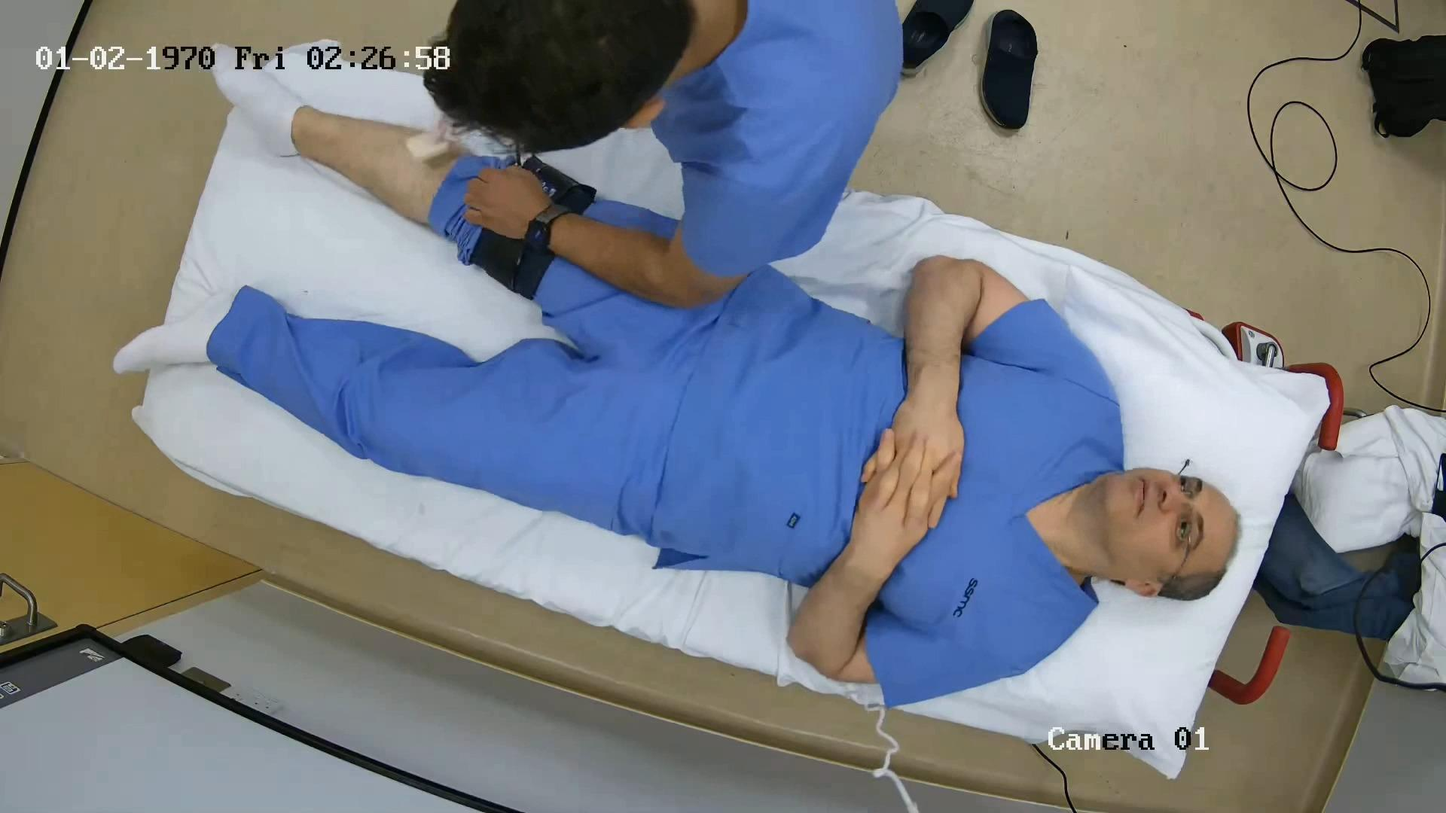bed: (133, 62, 1343, 783)
patient: (207, 108, 1239, 705)
prepstick: (407, 117, 460, 163)
tourniquet: (459, 156, 596, 298)
